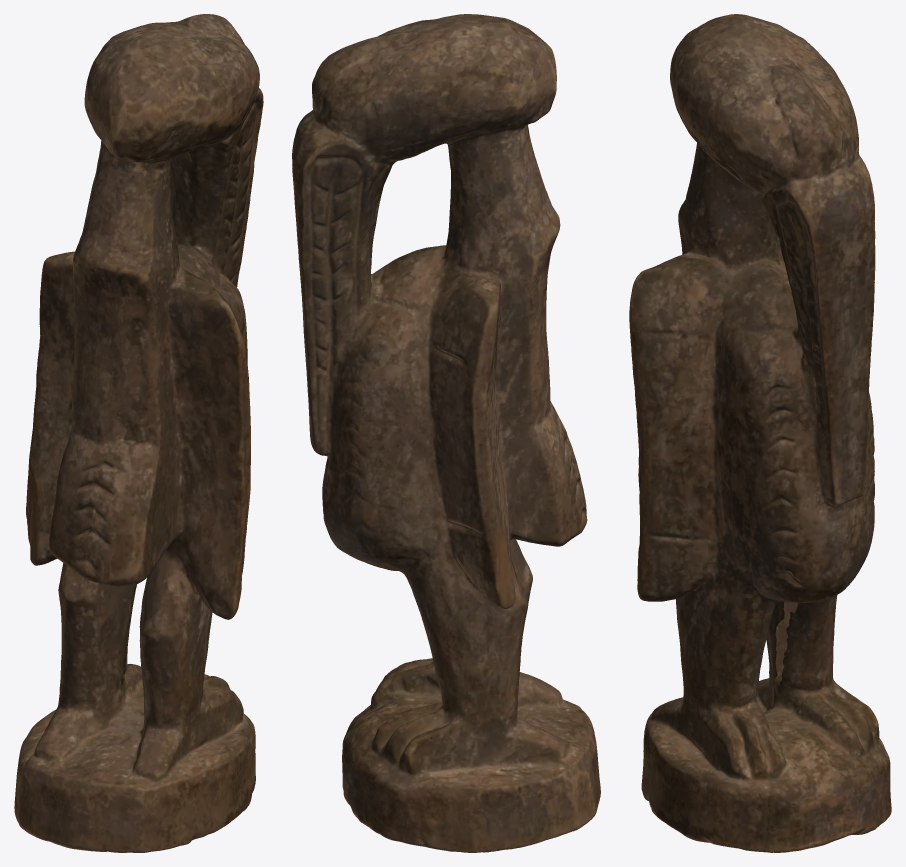
Rendered from preview.glb.
3 views of the same model, side by side, from view 1: azimuth 30°, elevation 25°; view 2: azimuth 150°, elevation 25°; view 3: azimuth 270°, elevation 25° (orthographic).
Visible parts, largest first — view 1: Object_2; view 2: Object_2; view 3: Object_2.
Boxes of the visible parts, x1=… form: Object_2: x1=14, y1=14, x2=263, y2=852; Object_2: x1=292, y1=14, x2=600, y2=852; Object_2: x1=629, y1=14, x2=891, y2=852.
Bounding box in the file's own units: 176 × 494 × 149.
Materials: 1 (1 with a texture image).
